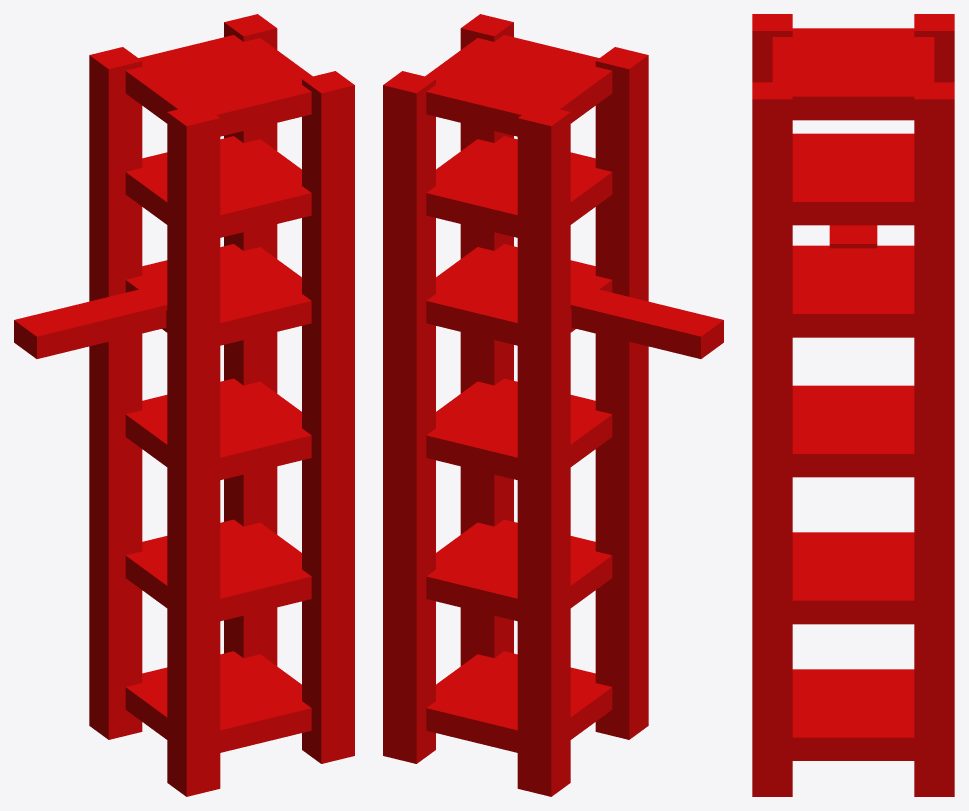
File: LaunchPad.fbx
3 renders of one model, left to right at view 1: azimuth 30°, elevation 25°; view 2: azimuth 150°, elevation 25°; view 3: azimuth 270°, elevation 25°, orthographic. The views are drawn at different scales.
Parts seen in each view (by area): view 1: launchpad; view 2: launchpad; view 3: launchpad.
Part boxes in pixels (bbox=[...]): launchpad: bbox=[14, 14, 354, 796]; launchpad: bbox=[383, 14, 723, 796]; launchpad: bbox=[752, 14, 954, 796].
Bounding box in the file's own units: 4.17 × 9.51 × 2.5.
